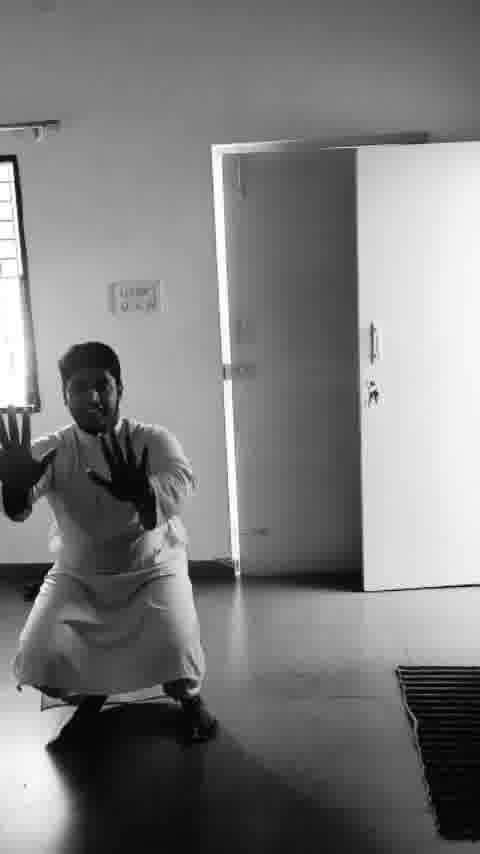duck: (3, 339, 236, 742)
